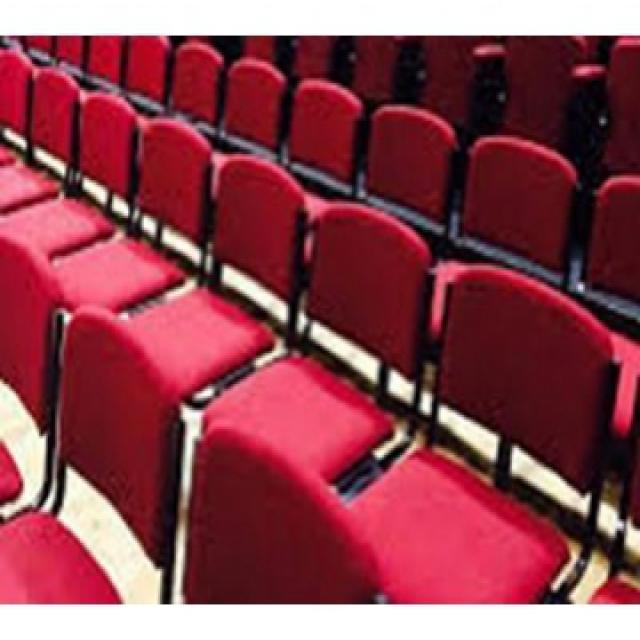chair: (404, 274, 620, 579), (254, 210, 418, 471), (128, 156, 306, 384), (14, 356, 165, 596), (88, 83, 207, 310), (471, 110, 582, 274), (13, 105, 127, 257), (0, 66, 75, 213), (370, 88, 457, 213), (294, 64, 360, 193), (226, 62, 283, 168)
